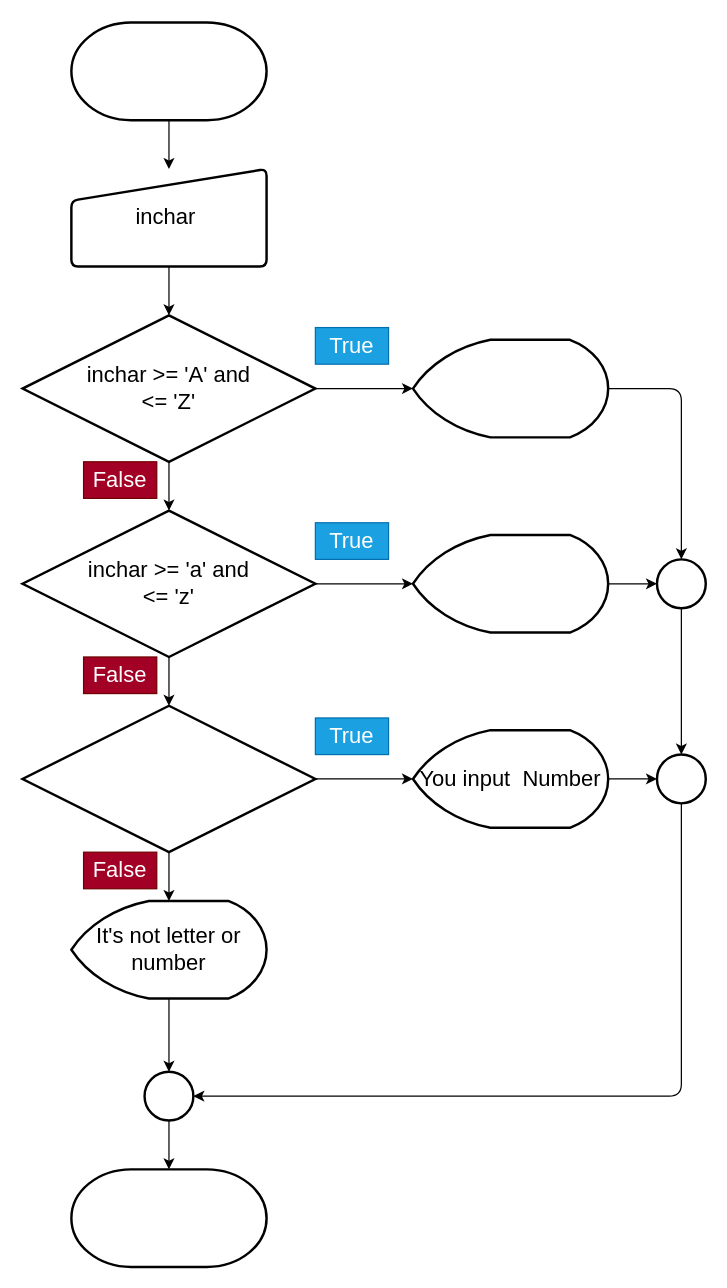
The diagram is 727 pixels wide and 1288 high, and some of its shapes have lost their labels. Here are the shapes that lost their labels. From the top down, the centre of each, then its label:
At point (168, 71): "Start".
At point (510, 388): "You input Upper case letter".
At point (510, 583): "You input Lower case letter".
At point (168, 778): "inchar >= '0' and <= '9'".
At point (168, 1218): "End".
